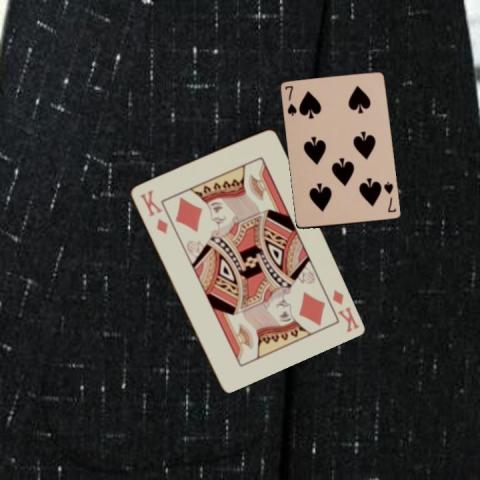7s: (282, 83, 299, 117), (381, 179, 397, 214)
Kd: (136, 186, 169, 234), (329, 287, 360, 334)
